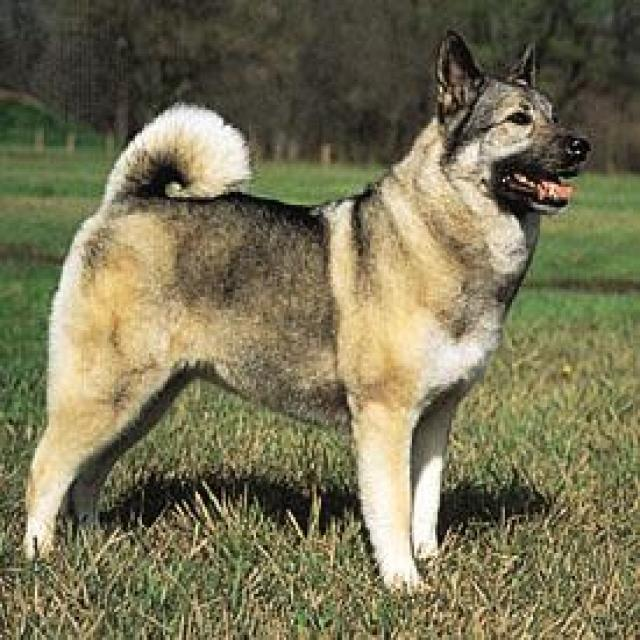good: (20, 28, 589, 588)
